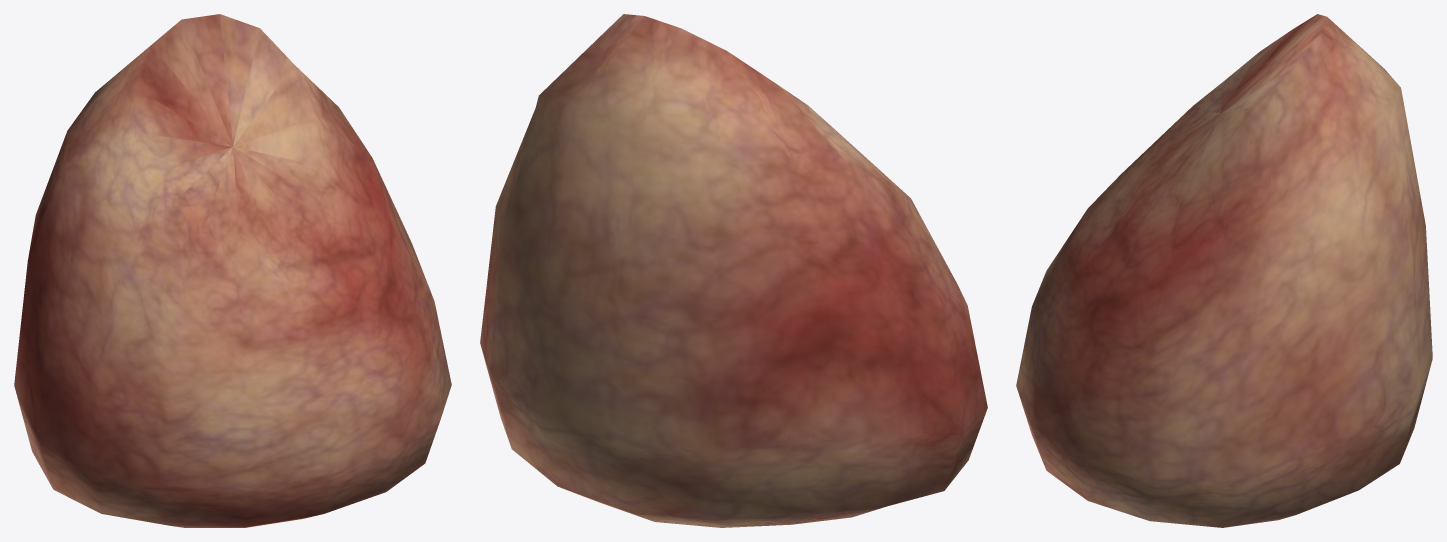
Rendered from FleshDecoration.fbx.
The picture shows the model from 3 angles, left to right: view 1: azimuth 30°, elevation 25°; view 2: azimuth 150°, elevation 25°; view 3: azimuth 270°, elevation 25°; orthographic projection. The views are drawn at different scales.
Parts seen in each view (by area): view 1: Sphere; view 2: Sphere; view 3: Sphere.
Part boxes in pixels (<box>): Sphere: <box>14,14,451,527</box>; Sphere: <box>480,14,987,527</box>; Sphere: <box>1016,14,1432,527</box>.
Bounding box in the file's own units: 350 × 367 × 305.
1 material, 1 textured.
